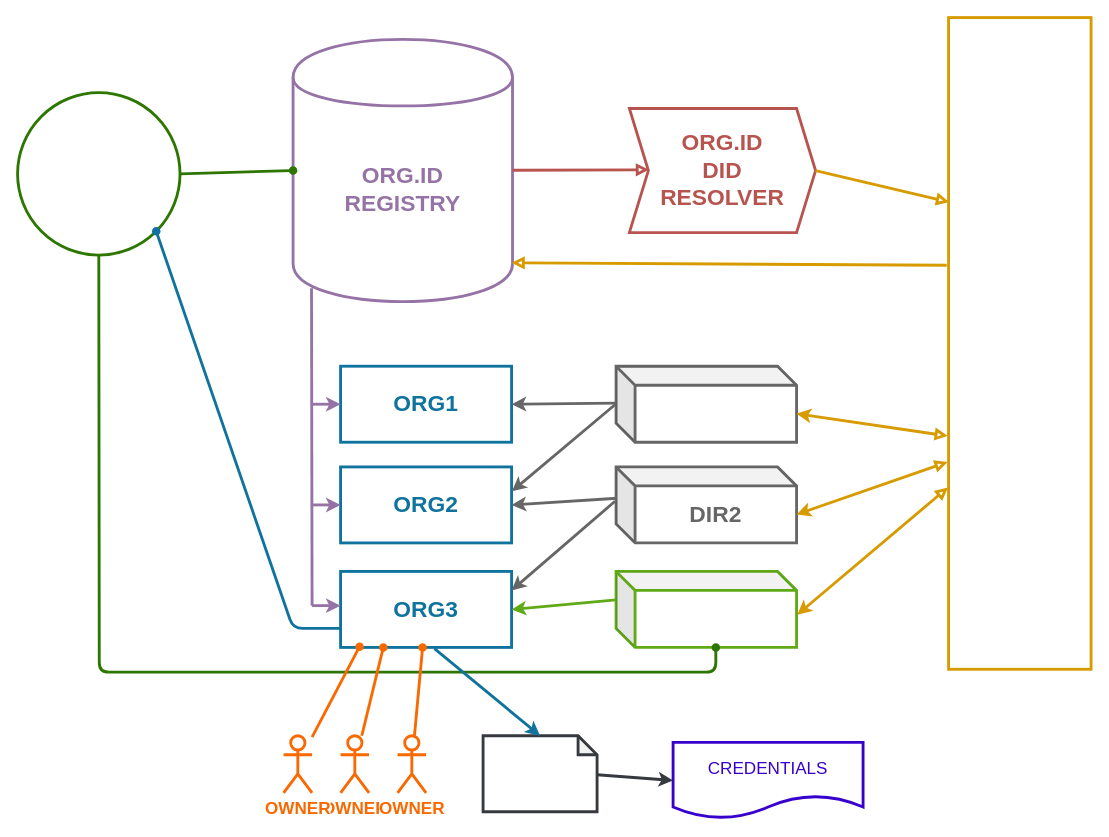
Some shapes in this 1109 by 837 pixel diagram are drawn without their labels. The box of each missing label's shape, as (x1, y1, x2, y2) in pixels:
ARBOR ORG.ID BROWSER: (947, 16, 1092, 670)
DAO: (16, 91, 181, 256)
DIR1: (614, 364, 798, 443)
DIR3: (614, 570, 798, 648)
ORG.JSON: (481, 734, 598, 813)
